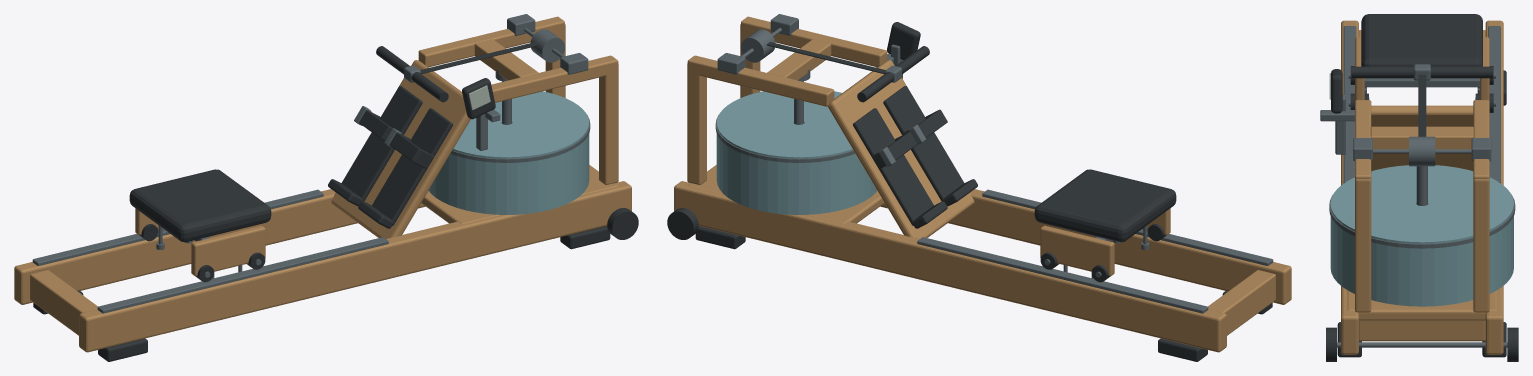
3 renders of one model, left to right at view 1: azimuth 30°, elevation 25°; view 2: azimuth 150°, elevation 25°; view 3: azimuth 270°, elevation 25°, orthographic. The views are drawn at different scales.
Visible parts, largest first — view 1: Frame rail L, Frame rail R, Tank hollow wall, Seat cushion, Tank opaque lid with shaft clearance, Inclined complete footboard, Foot pad L, Foot pad R, Guide track L, Seat side cheek -0.19, Upper drive bearer -0.18, Frame cross member -1 (+14 smaller); view 2: Frame rail R, Frame rail L, Tank hollow wall, Seat cushion, Tank opaque lid with shaft clearance, Inclined complete footboard, Foot pad R, Foot pad L, Upper drive bearer 0.18, Guide track R, Seat side cheek 0.19, Front upright 0.18 (+14 smaller); view 3: Tank opaque lid with shaft clearance, Tank hollow wall, Seat cushion, Inclined complete footboard, Frame cross member 0.96, Front upright 0.18, Front upright -0.18, Tank support deck, Upper cross bearing, Pull handle, Guide track R, Frame rail R (+24 smaller).
Boxes of the visible parts, <box> form: Frame rail L: <box>79,181,631,352</box>; Frame rail R: <box>14,189,425,304</box>; Tank hollow wall: <box>429,133,589,212</box>; Seat cushion: <box>129,169,271,242</box>; Tank opaque lid with shaft clearance: <box>453,91,589,158</box>; Inclined complete footboard: <box>331,60,470,238</box>; Foot pad L: <box>372,108,452,225</box>; Foot pad R: <box>342,86,422,201</box>; Guide track L: <box>97,237,388,313</box>; Seat side cheek -0.19: <box>191,225,265,276</box>; Upper drive bearer -0.18: <box>491,55,618,102</box>; Frame cross member -1: <box>30,270,97,335</box>; Frame rail R: <box>674,181,1226,352</box>; Frame rail L: <box>880,189,1291,304</box>; Tank hollow wall: <box>716,133,876,212</box>; Seat cushion: <box>1034,169,1176,242</box>; Tank opaque lid with shaft clearance: <box>716,91,852,158</box>; Inclined complete footboard: <box>828,60,974,238</box>; Foot pad R: <box>853,108,933,225</box>; Foot pad L: <box>883,86,963,201</box>; Upper drive bearer 0.18: <box>687,55,834,106</box>; Guide track R: <box>917,237,1208,313</box>; Seat side cheek 0.19: <box>1040,225,1114,276</box>; Front upright 0.18: <box>687,63,706,184</box>; Tank opaque lid with shaft clearance: <box>1330,165,1513,244</box>; Tank hollow wall: <box>1330,216,1513,304</box>; Seat cushion: <box>1361,14,1482,66</box>; Inclined complete footboard: <box>1371,105,1473,171</box>; Frame cross member 0.96: <box>1359,320,1485,341</box>; Front upright 0.18: <box>1473,179,1489,312</box>; Front upright -0.18: <box>1355,179,1371,312</box>; Tank support deck: <box>1347,290,1496,320</box>; Upper cross bearing: <box>1370,126,1473,149</box>; Pull handle: <box>1351,66,1492,78</box>; Guide track R: <box>1488,26,1500,183</box>; Frame rail R: <box>1485,20,1503,354</box>.
Size of the model in its own units: 2.14 by 0.7201 by 0.603.
